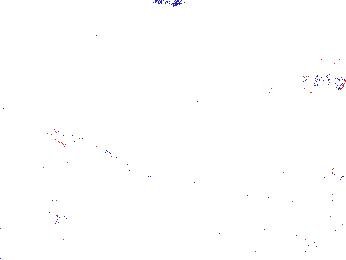red belly glassfish: (318, 42, 340, 64)
